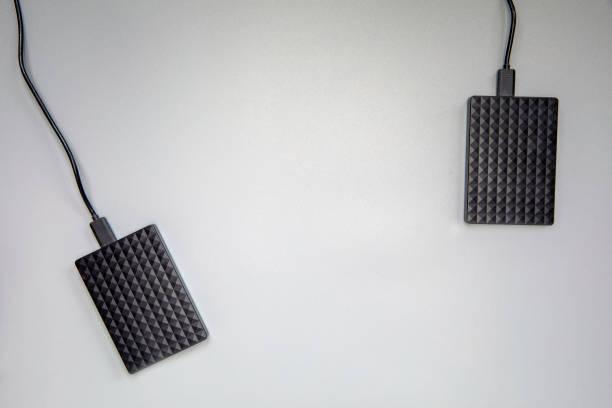HDD: (74, 224, 210, 376), (461, 95, 560, 227)
